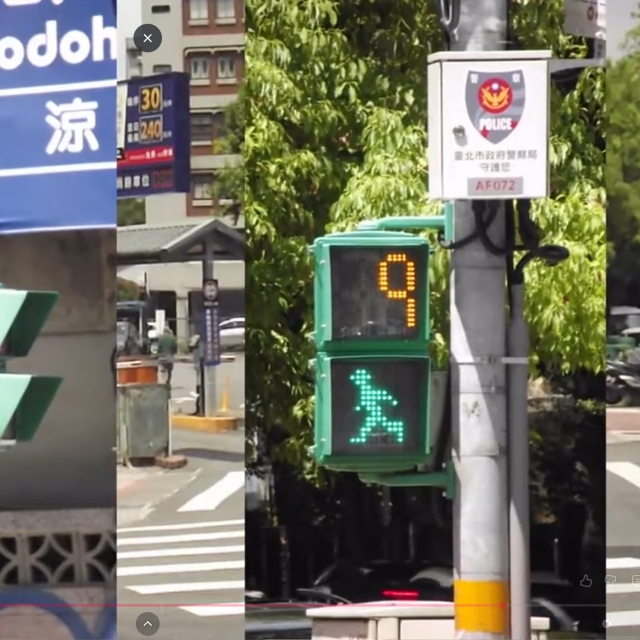green_light: (319, 240, 428, 460)
